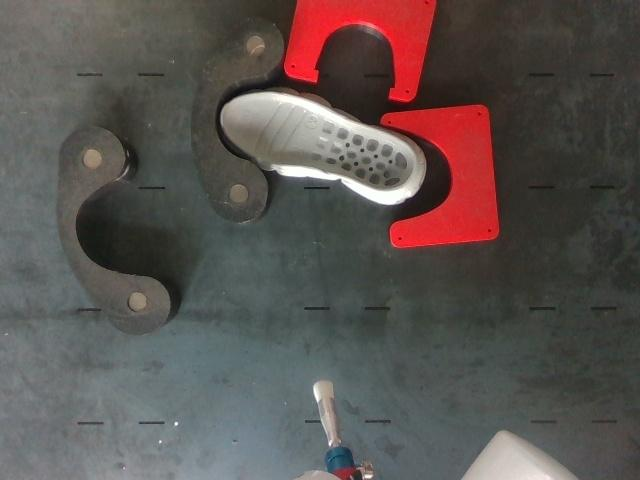shoes: (222, 93, 415, 191)
